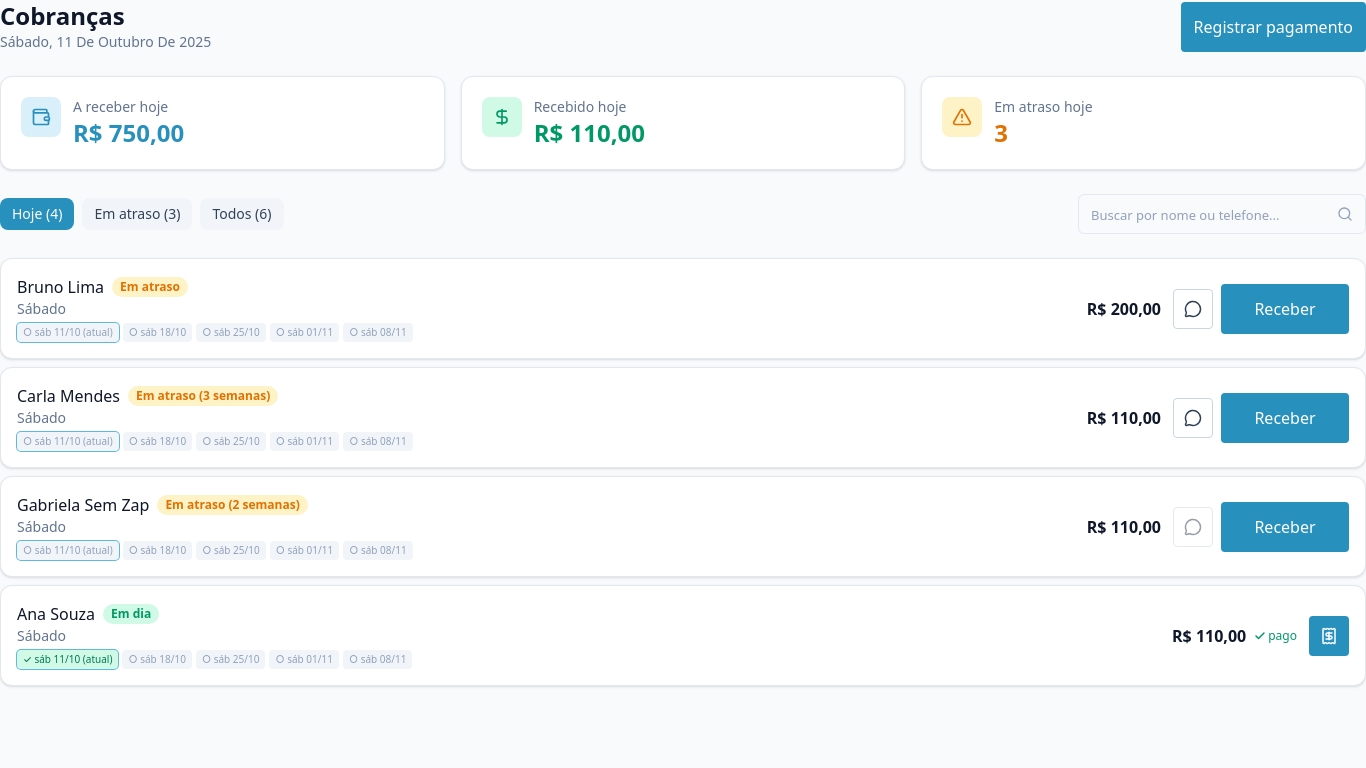
Scenario: Cobranças: situação de cada cliente › clicar numa ficha paga abre o recibo daquela semana
Step 1. Click the button "✓ sáb 11/10 (atual)" → (68, 660), box [17, 650, 118, 669]
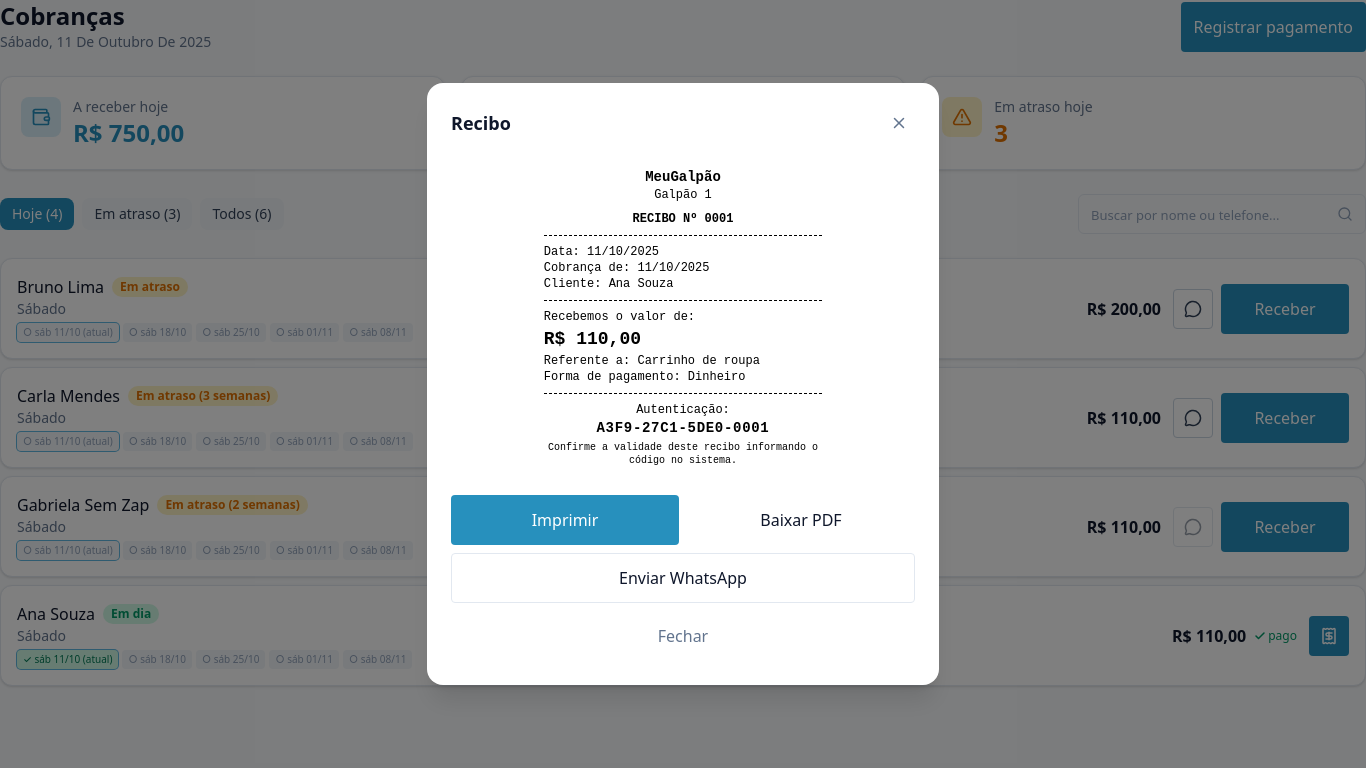
Check: the text "Cliente: Ana Souza" is shown, box [544, 277, 673, 291]
Check: the text "R$ 110,00" is shown, box [544, 329, 641, 349]
